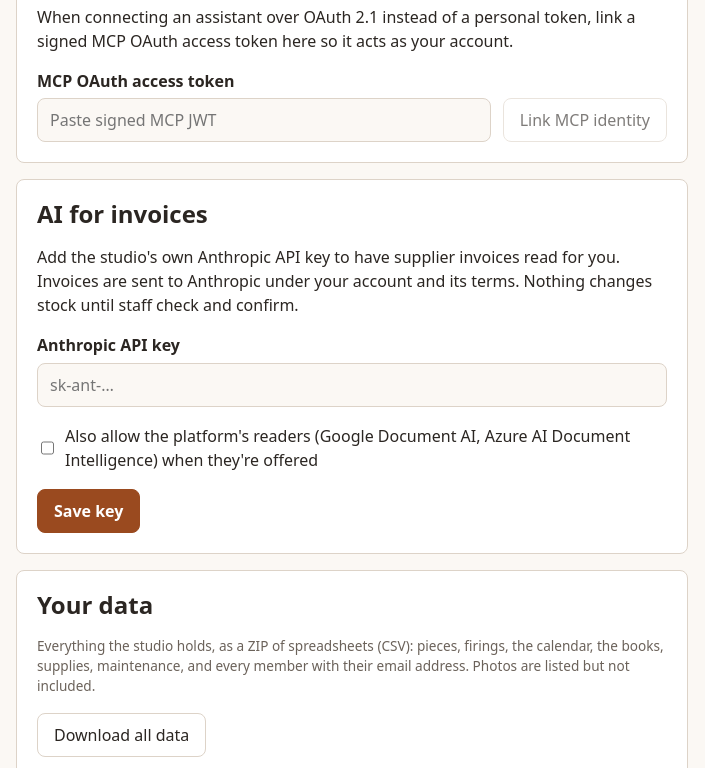
Scenario: AI for invoices › saves a key without ever showing it, then tests it
This screenshot has width=705, height=768.
(page scrolled)
Type "sk-ant-api03-secret-Wxyz" into the password field labelled "Anthropic API key". click: {"x": 352, "y": 385}
box: [37,363,667,407]
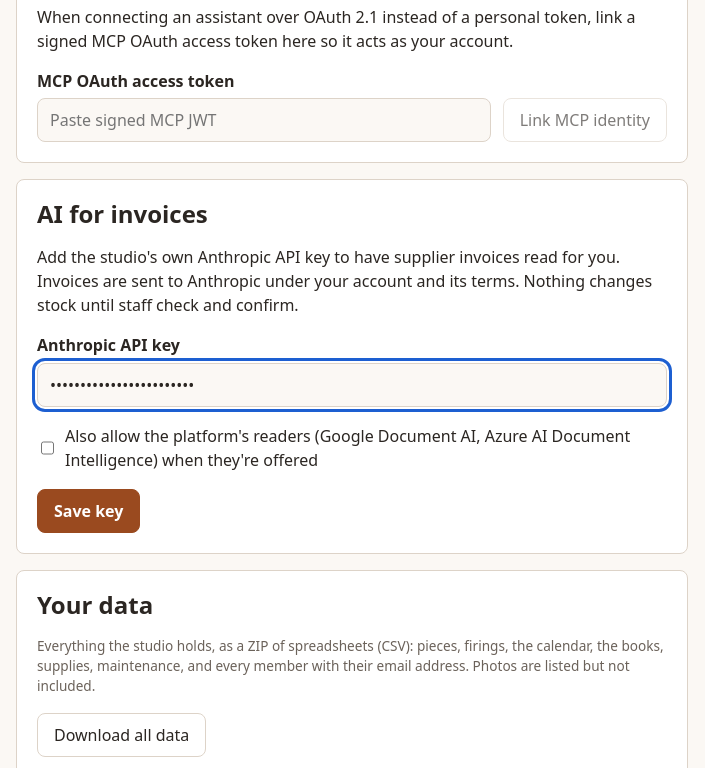
Click the checkbox labelled "allow the platform's readers". click: {"x": 48, "y": 448}
box: [41,426,54,470]
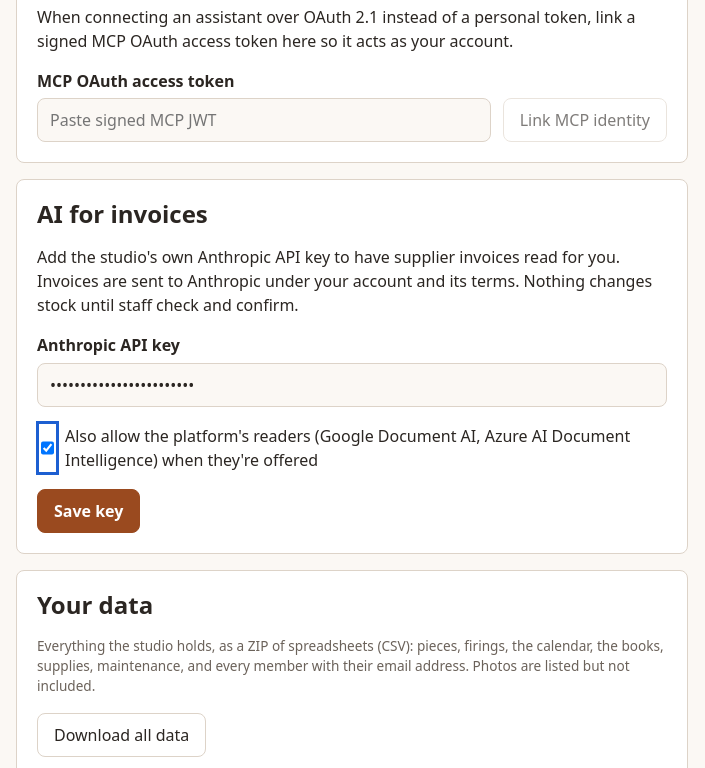
Click the button "Save key". click: {"x": 89, "y": 511}
box: [37,489,140,533]
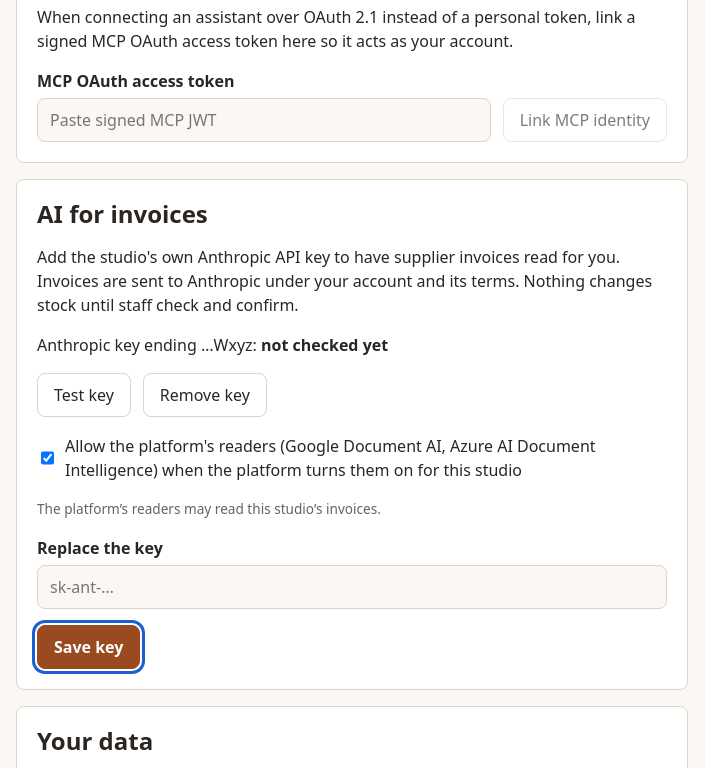
expect the text "not checked yet" is shown: met, box [261,334,388,356]
Click the button "Test key". click: {"x": 84, "y": 395}
box: [37,373,131,417]
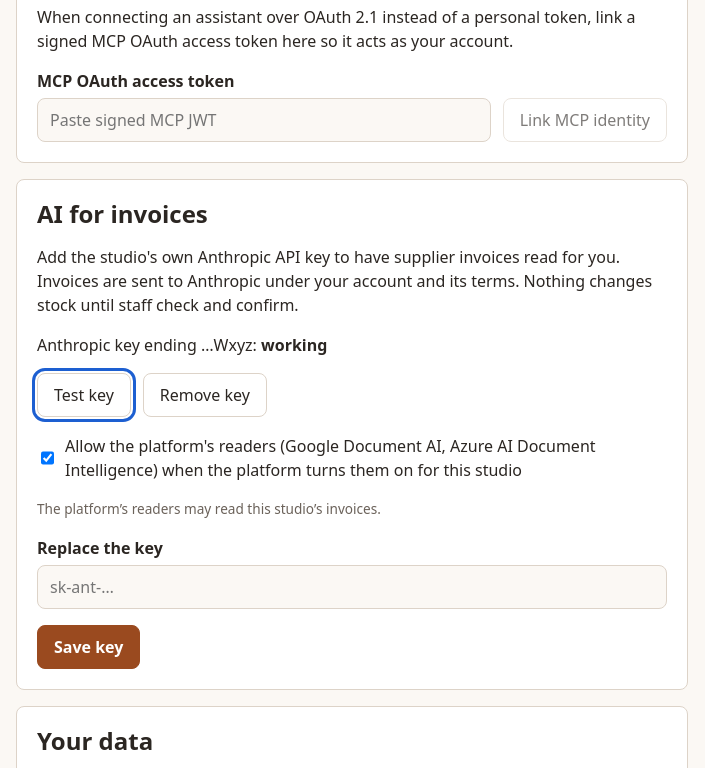
expect the text "working" is shown: met, box [261,334,327,356]
